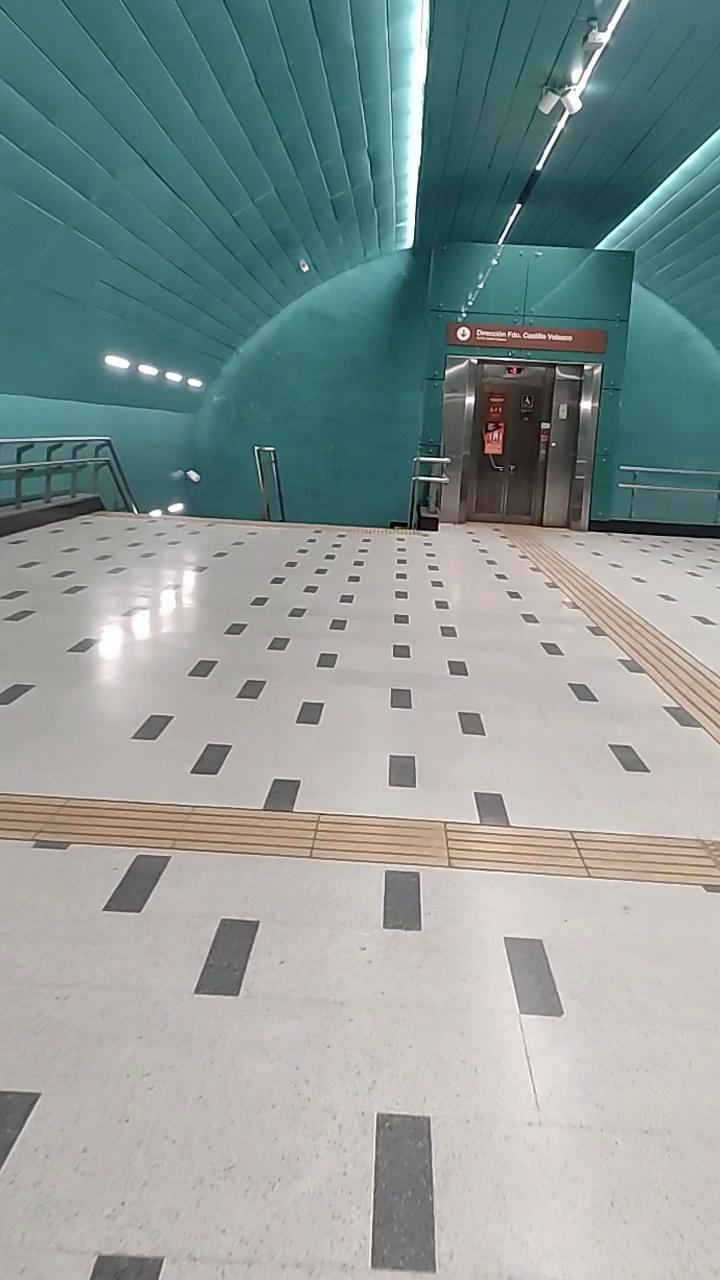down arrow: (456, 326, 476, 342)
handicapped symbol: (521, 394, 536, 409)
